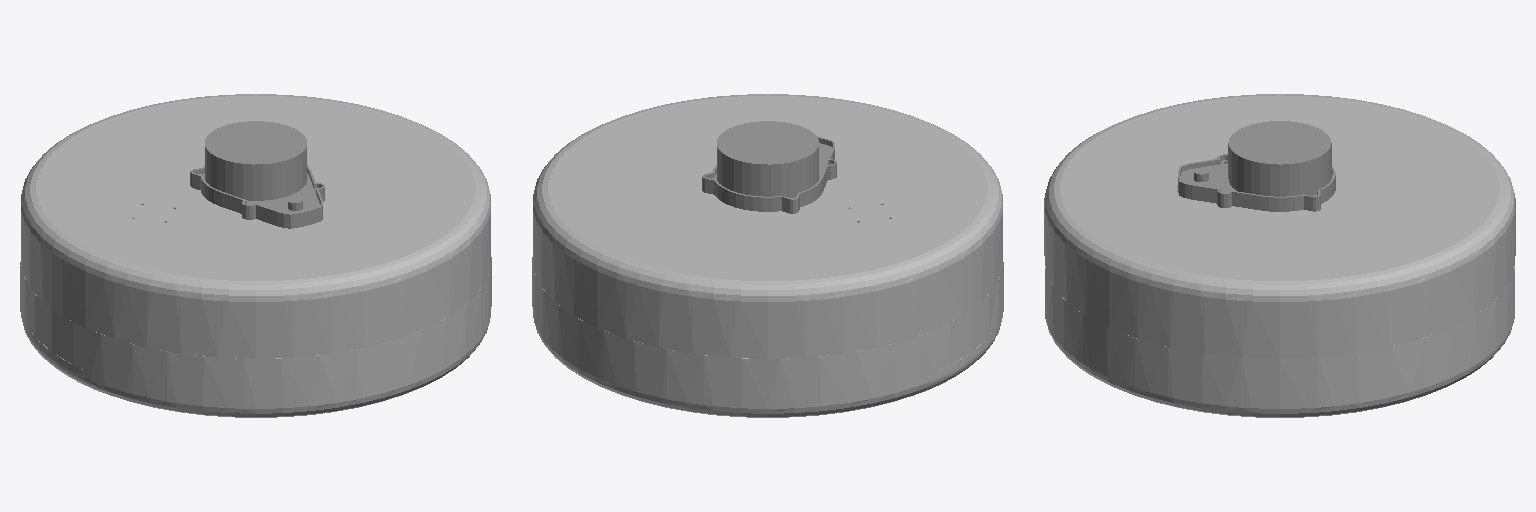
robot.urdf — rbot:
<?xml version="1.0" encoding="utf-8"?>
<!-- This URDF was automatically created by SolidWorks to URDF Exporter! Originally created by [author] ([email redacted]) 
     Commit Version: 1.6.0-4-g7f85cfe  Build Version: 1.6.7995.38578
     For more information, please see http://wiki.ros.org/sw_urdf_exporter -->
<robot
  name="rbot">
  <link
    name="base_link">
    <inertial>
      <origin
        xyz="0.00012577 -0.0044067 -0.037432"
        rpy="0 0 0" />
      <mass
        value="0.7525" />
      <inertia
        ixx="0.0021236"
        ixy="-4.7377E-06"
        ixz="9.2033E-07"
        iyy="0.0029787"
        iyz="9.7639E-05"
        izz="0.004855" />
    </inertial>
    <visual>
      <origin
        xyz="0 0 0"
        rpy="0 0 0" />
      <geometry>
        <mesh
          filename="package://rbot/meshes/base_link.STL" />
      </geometry>
      <material
        name="">
        <color
          rgba="0.75294 0.75294 0.75294 1" />
      </material>
    </visual>
    <collision>
      <origin
        xyz="0 0 0"
        rpy="0 0 0" />
      <geometry>
        <mesh
          filename="package://rbot/meshes/base_link.STL" />
      </geometry>
    </collision>
  </link>
  <link
    name="r_rWheel">
    <inertial>
      <origin
        xyz="0.010693 0 -5.5511E-17"
        rpy="0 0 0" />
      <mass
        value="0.026054" />
      <inertia
        ixx="1.5938E-05"
        ixy="7.3531E-21"
        ixz="-1.1609E-21"
        iyy="8.5294E-06"
        iyz="3.467E-21"
        izz="8.5294E-06" />
    </inertial>
    <visual>
      <origin
        xyz="0 0 0"
        rpy="0 0 0" />
      <geometry>
        <mesh
          filename="package://rbot/meshes/r_rWheel.STL" />
      </geometry>
      <material
        name="">
        <color
          rgba="0.75294 0.75294 0.75294 1" />
      </material>
    </visual>
    <collision>
      <origin
        xyz="0 0 0"
        rpy="0 0 0" />
      <geometry>
        <mesh
          filename="package://rbot/meshes/r_rWheel.STL" />
      </geometry>
    </collision>
  </link>
  <joint
    name="r_rWheel_bc"
    type="continuous">
    <origin
      xyz="0.08925 -0.032999 -0.0475"
      rpy="0 0 0" />
    <parent
      link="base_link" />
    <child
      link="r_rWheel" />
    <axis
      xyz="1 0 0" />
  </joint>
  <link
    name="l_rWheel">
    <inertial>
      <origin
        xyz="0.0083074 0 -1.1102E-16"
        rpy="0 0 0" />
      <mass
        value="0.026054" />
      <inertia
        ixx="1.5938E-05"
        ixy="4.0982E-22"
        ixz="-1.335E-21"
        iyy="8.5294E-06"
        iyz="-3.2635E-22"
        izz="8.5294E-06" />
    </inertial>
    <visual>
      <origin
        xyz="0 0 0"
        rpy="0 0 0" />
      <geometry>
        <mesh
          filename="package://rbot/meshes/l_rWheel.STL" />
      </geometry>
      <material
        name="">
        <color
          rgba="0.75294 0.75294 0.75294 1" />
      </material>
    </visual>
    <collision>
      <origin
        xyz="0 0 0"
        rpy="0 0 0" />
      <geometry>
        <mesh
          filename="package://rbot/meshes/l_rWheel.STL" />
      </geometry>
    </collision>
  </link>
  <joint
    name="l_rWheel_bc"
    type="continuous">
    <origin
      xyz="-0.10825 -0.032999 -0.0475"
      rpy="0 0 0" />
    <parent
      link="base_link" />
    <child
      link="l_rWheel" />
    <axis
      xyz="1 0 0" />
  </joint>
  <link
    name="Camera">
    <inertial>
      <origin
        xyz="-1.2368E-06 0.088017 0.070264"
        rpy="0 0 0" />
      <mass
        value="0.0055267" />
      <inertia
        ixx="1.2871E-07"
        ixy="-3.7213E-11"
        ixz="2.7082E-12"
        iyy="1.6165E-06"
        iyz="-1.3246E-09"
        izz="1.5914E-06" />
    </inertial>
    <visual>
      <origin
        xyz="0 0 0"
        rpy="0 0 0" />
      <geometry>
        <mesh
          filename="package://rbot/meshes/Camera.STL" />
      </geometry>
      <material
        name="">
        <color
          rgba="0.62745 0.62745 0.62745 1" />
      </material>
    </visual>
    <collision>
      <origin
        xyz="0 0 0"
        rpy="0 0 0" />
      <geometry>
        <mesh
          filename="package://rbot/meshes/Camera.STL" />
      </geometry>
    </collision>
  </link>
  <joint
    name="Camera_tc"
    type="fixed">
    <origin
      xyz="-0.000325 -0.005171 -0.065"
      rpy="0 0 0" />
    <parent
      link="base_link" />
    <child
      link="Camera" />
    <axis
      xyz="0 0 0" />
  </joint>
  <link
    name="LiDar">
    <inertial>
      <origin
        xyz="2.0169E-11 -7.1038E-12 0.0061457"
        rpy="0 0 0" />
      <mass
        value="0.070314" />
      <inertia
        ixx="2.0839E-05"
        ixy="1.398E-14"
        ixz="6.7545E-15"
        iyy="2.0839E-05"
        iyz="-2.379E-15"
        izz="3.374E-05" />
    </inertial>
    <visual>
      <origin
        xyz="0 0 0"
        rpy="0 0 0" />
      <geometry>
        <mesh
          filename="package://rbot/meshes/LiDar.STL" />
      </geometry>
      <material
        name="">
        <color
          rgba="0.62745 0.62745 0.62745 1" />
      </material>
    </visual>
    <collision>
      <origin
        xyz="0 0 0"
        rpy="0 0 0" />
      <geometry>
        <mesh
          filename="package://rbot/meshes/LiDar.STL" />
      </geometry>
    </collision>
  </link>
  <joint
    name="LiDar_tc"
    type="fixed">
    <origin
      xyz="0 0 0"
      rpy="0 0 0" />
    <parent
      link="base_link" />
    <child
      link="LiDar" />
    <axis
      xyz="0 0 0" />
  </joint>
  <link
    name="fan">
    <inertial>
      <origin
        xyz="-1.6067E-06 -1.2256E-06 0.0026276"
        rpy="0 0 0" />
      <mass
        value="0.008879" />
      <inertia
        ixx="2.6776E-06"
        ixy="-1.154E-10"
        ixz="-2.2255E-11"
        iyy="2.6785E-06"
        iyz="7.6952E-11"
        izz="5.206E-06" />
    </inertial>
    <visual>
      <origin
        xyz="0 0 0"
        rpy="0 0 0" />
      <geometry>
        <mesh
          filename="package://rbot/meshes/fan.STL" />
      </geometry>
      <material
        name="">
        <color
          rgba="0.59608 0.66667 0.68627 1" />
      </material>
    </visual>
    <collision>
      <origin
        xyz="0 0 0"
        rpy="0 0 0" />
      <geometry>
        <mesh
          filename="package://rbot/meshes/fan.STL" />
      </geometry>
    </collision>
  </link>
  <joint
    name="fan_bc"
    type="continuous">
    <origin
      xyz="0 -0.036299 -0.06465"
      rpy="0 0 0" />
    <parent
      link="base_link" />
    <child
      link="fan" />
    <axis
      xyz="0 0 1" />
  </joint>
  <link
    name="fWheel">
    <inertial>
      <origin
        xyz="0.0053477 -0.0003542 -3.0273E-08"
        rpy="0 0 0" />
      <mass
        value="0.0010799" />
      <inertia
        ixx="4.1635E-08"
        ixy="-1.0613E-09"
        ixz="-6.0639E-14"
        iyy="2.5682E-08"
        iyz="6.8325E-14"
        izz="2.5611E-08" />
    </inertial>
    <visual>
      <origin
        xyz="0 0 0"
        rpy="0 0 0" />
      <geometry>
        <mesh
          filename="package://rbot/meshes/fWheel.STL" />
      </geometry>
      <material
        name="">
        <color
          rgba="0.59608 0.66667 0.68627 1" />
      </material>
    </visual>
    <collision>
      <origin
        xyz="0 0 0"
        rpy="0 0 0" />
      <geometry>
        <mesh
          filename="package://rbot/meshes/fWheel.STL" />
      </geometry>
    </collision>
  </link>
  <joint
    name="fWheel_bc"
    type="continuous">
    <origin
      xyz="-0.0061077 0.074475 -0.0725"
      rpy="0 0 0" />
    <parent
      link="base_link" />
    <child
      link="fWheel" />
    <axis
      xyz="0.99781 -0.066094 0" />
  </joint>
  <gazebo>
    <plugin name="gazebo_ros_control" filename="libgazebo_ros_control.so">
    <robotNamespace>rbot</robotNamespace>
    </plugin>
</gazebo>  
  <transmission name="tran1">
    <type>transmission_interface/SimpleTransmission</type>
    <joint name="fWheel_bc">
        <hardwareInterface>EffortJointInterface</hardwareInterface>
    </joint>
    <actuator name="fWheel_bc_motor">
        <hardwareInterface>EffortJointInterface</hardwareInterface>
        <mechanicalReduction>1</mechanicalReduction>
    </actuator>
</transmission>
<transmission name="tran2">
    <type>transmission_interface/SimpleTransmission</type>
    <joint name="r_rWheel_bc">
        <hardwareInterface>EffortJointInterface</hardwareInterface>
    </joint>
    <actuator name="r_rWheel_bc_motor">
        <hardwareInterface>EffortJointInterface</hardwareInterface>
        <mechanicalReduction>1</mechanicalReduction>
    </actuator>
</transmission>
<transmission name="tran3">
    <type>transmission_interface/SimpleTransmission</type>
    <joint name="l_rWheel_bc">
        <hardwareInterface>EffortJointInterface</hardwareInterface>
    </joint>
    <actuator name="l_rWheel_bc_motor">
        <hardwareInterface>EffortJointInterface</hardwareInterface>
        <mechanicalReduction>1</mechanicalReduction>
    </actuator>
</transmission>

  <gazebo reference="Camera">
    <sensor type="camera" name="camera1">
      <update_rate>30.0</update_rate>
      <camera name="head">
        <horizontal_fov>1.3962634</horizontal_fov>
        <image>
          <width>800</width>
          <height>800</height>
          <format>R8G8B8</format>
        </image>
        <clip>
          <near>0.02</near>
          <far>300</far>
        </clip>
        <noise>
          <type>gaussian</type>
          <!-- Noise is sampled independently per pixel on each frame.
               That pixel's noise value is added to each of its color
               channels, which at that point lie in the range [0,1]. -->
          <mean>0.0</mean>
          <stddev>0.007</stddev>
        </noise>
      </camera>
      <plugin name="camera_controller" filename="libgazebo_ros_camera.so">
        <alwaysOn>true</alwaysOn>
        <updateRate>0.0</updateRate>
        <cameraName>gazebo_demo/camera</cameraName>
        <imageTopicName>image_raw</imageTopicName>
        <cameraInfoTopicName>camera_info</cameraInfoTopicName>
        <frameName>Camera</frameName>
        <hackBaseline>0.07</hackBaseline>
        <distortionK1>0.0</distortionK1>
        <distortionK2>0.0</distortionK2>
        <distortionK3>0.0</distortionK3>
        <distortionT1>0.0</distortionT1>
        <distortionT2>0.0</distortionT2>
      </plugin>
    </sensor>
  </gazebo>
  <!-- hokuyo -->
  <gazebo reference="LiDar">
    <sensor type="gpu_ray" name="head_hokuyo_sensor">
      <pose>0 0 0 0 0 3.14</pose>
      <visualize>false</visualize>
      <update_rate>40</update_rate>
      <ray>
        <scan>
          <horizontal>
            <samples>720</samples>
            <resolution>1</resolution>
            <min_angle>-3.14</min_angle>
            <max_angle>3.14</max_angle>
          </horizontal>
        </scan>
        <range>
          <min>0.10</min>
          <max>30.0</max>
          <resolution>0.01</resolution>
        </range>
        <noise>
          <type>gaussian</type>
          <!-- Noise parameters based on published spec for Hokuyo laser
               achieving "+-30mm" accuracy at range < 10m.  A mean of 0.0m and
               stddev of 0.01m will put 99.7% of samples within 0.03m of the true
               reading. -->
          <mean>0.0</mean>
          <stddev>0.01</stddev>
        </noise>
      </ray>
      <plugin name="gazebo_ros_head_hokuyo_controller" filename="libgazebo_ros_gpu_laser.so">
        <topicName>/scan</topicName>
        <frameName>LiDar</frameName>
      </plugin>
    </sensor>
  </gazebo>
  <gazebo>
  <plugin name="differential_drive_controller" filename="libgazebo_ros_diff_drive.so">

    <!-- Plugin update rate in Hz -->
    <updateRate>30</updateRate>

    <!-- Name of left joint, defaults to `left_joint` -->
    <leftJoint>l_rWheel_bc</leftJoint>

    <!-- Name of right joint, defaults to `right_joint` -->
    <rightJoint>r_rWheel_bc</rightJoint>

    <!-- The distance from the center of one wheel to the other, in meters, defaults to 0.34 m -->
    <wheelSeparation>0.20</wheelSeparation>

    <!-- Diameter of the wheels, in meters, defaults to 0.15 m -->
    <wheelDiameter>0.06</wheelDiameter>

    <!-- Wheel acceleration, in rad/s^2, defaults to 0.0 rad/s^2 -->
    <wheelAcceleration>1.0</wheelAcceleration>

    <!-- Maximum torque which the wheels can produce, in Nm, defaults to 5 Nm -->
    <wheelTorque>20</wheelTorque>

    <!-- Topic to receive geometry_msgs/Twist message commands, defaults to `cmd_vel` -->
    <commandTopic>cmd_vel</commandTopic>

    <!-- Topic to publish nav_msgs/Odometry messages, defaults to `odom` -->
    <odometryTopic>odom</odometryTopic>

    <!-- Odometry frame, defaults to `odom` -->
    <odometryFrame>odom</odometryFrame>

    <!-- Robot frame to calculate odometry from, defaults to `base_footprint` -->
    <robotBaseFrame>base_link</robotBaseFrame>

    <!-- Odometry source, 0 for ENCODER, 1 for WORLD, defaults to WORLD -->
    <odometrySource>0</odometrySource>

    <!-- Set to true to publish transforms for the wheel links, defaults to false -->
    <publishWheelTF>true</publishWheelTF>

    <!-- Set to true to publish transforms for the odometry, defaults to true -->
    <publishOdom>true</publishOdom>

    <!-- Set to true to publish sensor_msgs/JointState on /joint_states for the wheel joints, defaults to false -->
    <publishWheelJointState>true</publishWheelJointState>

    <!-- Set to true to swap right and left wheels, defaults to true -->
    <legacyMode>false</legacyMode>
  </plugin>
</gazebo>
  <joint name="imu_joint" type="fixed">
      <axis xyz="0 0 1" />
      <origin xyz="0 0 0.015" rpy="0 0 0"/>
      <parent link="base_link"/>
      <child link="imu_link"/>
  </joint>
  <!-- Imu Link-->
  <link name="imu_link">
        <collision>
            <origin xyz="0 0 0" rpy="0 0 0"/>
            <geometry>
                <box size="0.01 0.01 0.01"/>
            </geometry>
        </collision>
        <visual>
            <origin xyz="0 0 0" rpy="0 0 0"/>
            <geometry>
                <box size="0.01 0.01 0.01"/>
            </geometry>
        </visual>
        <inertial>
            <mass value="0.001" />
            <origin xyz="0 0 0" rpy="0 0 0"/>
            <inertia ixx="0.00000015" ixy="0" ixz="0" iyy="0.00000015" iyz="0" izz="0.00000015" />
        </inertial>
  </link>
  <!--IMU Link gazebo plugin-->
  <gazebo reference="imu_link">
    <gravity>true</gravity>
    <sensor name="imu_sensor" type="imu">
      <always_on>true</always_on>
      <update_rate>100</update_rate>
      <visualize>true</visualize>
      <topic>__default_topic__</topic>
      <plugin filename="libgazebo_ros_imu_sensor.so" name="imu_plugin">
        <topicName>/imu</topicName>
        <bodyName>imu_link</bodyName>
        <updateRateHZ>100.0</updateRateHZ>
        <gaussianNoise>0.0</gaussianNoise>
        <xyzOffset>0 0 0</xyzOffset>
        <rpyOffset>0 0 0</rpyOffset>
        <frameName>imu_link</frameName>
        <initialOrientationAsReference>false</initialOrientationAsReference>
      </plugin>
      <pose>0 0 0 0 0 0</pose>
    </sensor>
  </gazebo>





















</robot>

--- What the picture shows (computed from the rendered views, not written in the file) ---
The picture shows the robot from 3 angles, left to right: view 1: azimuth 30°, elevation 25°; view 2: azimuth 150°, elevation 25°; view 3: azimuth 270°, elevation 25°; orthographic projection.
Model rbot with 8 links and 7 joints (4 continuous, 3 fixed), rooted at base_link, posed every joint at zero.
Links seen in each view (by area): view 1: base_link, LiDar; view 2: base_link, LiDar; view 3: base_link, LiDar.
Link boxes in pixels (x1,y1,x2,y2): base_link: (20, 94, 491, 417); LiDar: (190, 121, 324, 228); base_link: (532, 94, 1003, 417); LiDar: (702, 121, 836, 213); base_link: (1044, 94, 1515, 417); LiDar: (1176, 121, 1335, 211).
Bounding box of the posed robot: 0.3 × 0.2998 × 0.1345 m (x, y, z).
7 mesh visuals loaded from 7 distinct referenced files (7 binary STL).